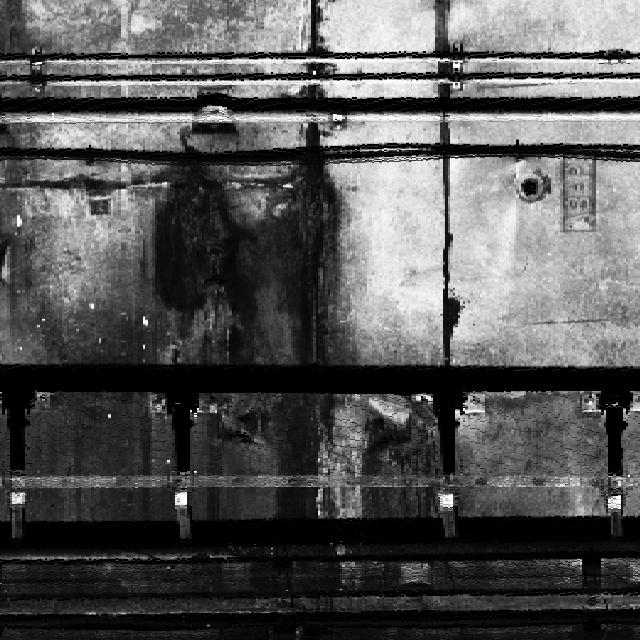leakage: (136, 128, 386, 365), (227, 387, 444, 518)
